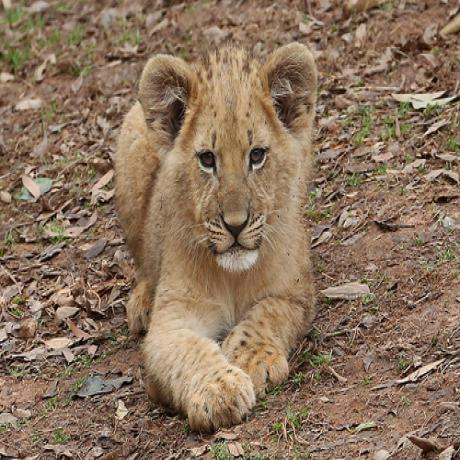Lion: (91, 16, 334, 426)
